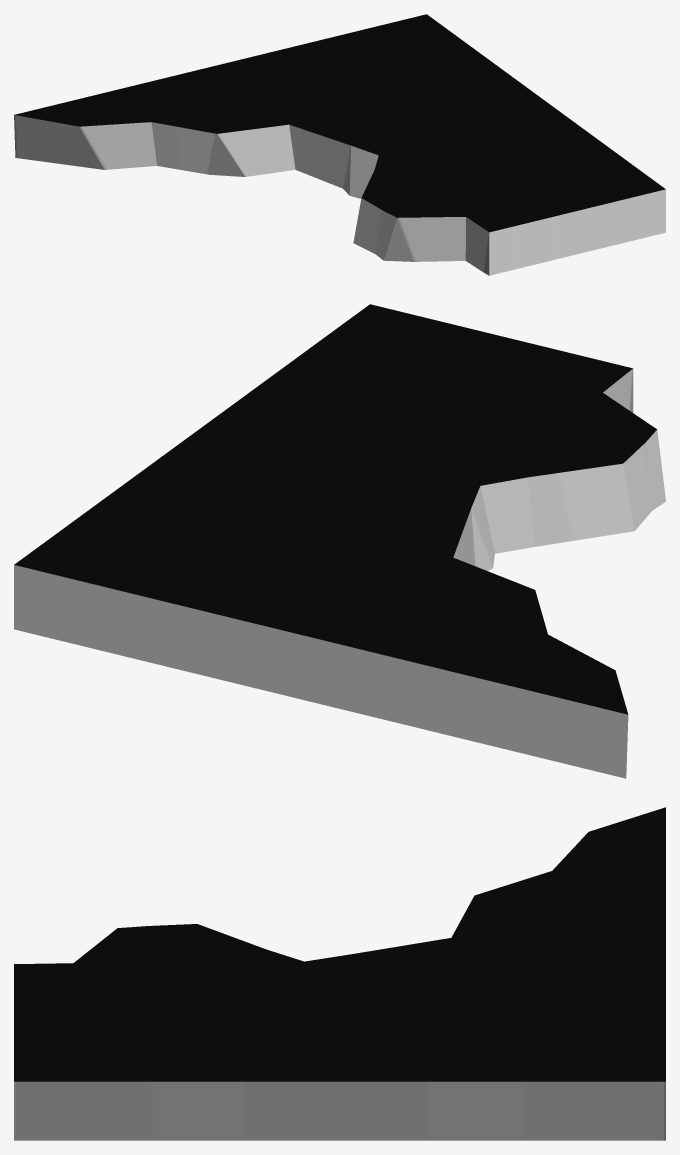
File: Mod_TileBroken_02.fbx
The picture shows the model from 3 angles, top to bottom: view 1: azimuth 30°, elevation 25°; view 2: azimuth 150°, elevation 25°; view 3: azimuth 270°, elevation 25°; orthographic projection. The views are drawn at different scales.
Parts seen in each view (by area): view 1: Mod_TileBroken_02; view 2: Mod_TileBroken_02; view 3: Mod_TileBroken_02.
Part boxes in pixels (x1=…): Mod_TileBroken_02: x1=14, y1=14, x2=665, y2=275; Mod_TileBroken_02: x1=14, y1=304, x2=665, y2=778; Mod_TileBroken_02: x1=14, y1=807, x2=665, y2=1140.
Bounding box in the file's own units: 99.62 × 10 × 100.
